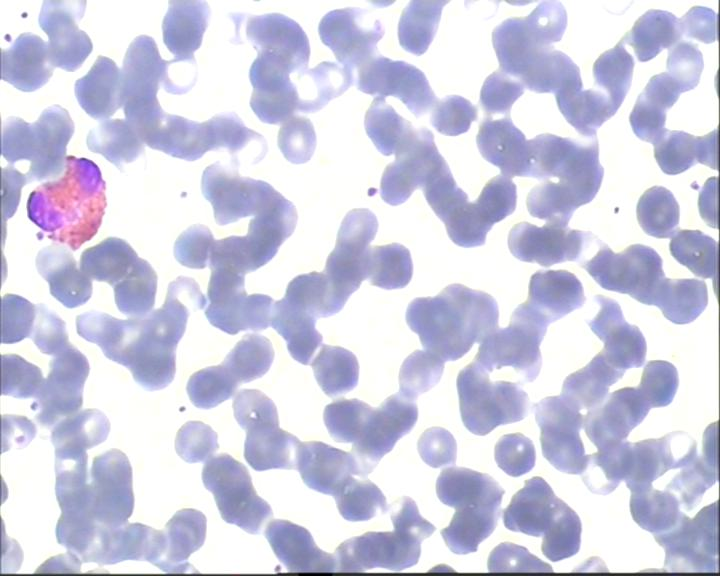eosi: (19, 147, 108, 250)
